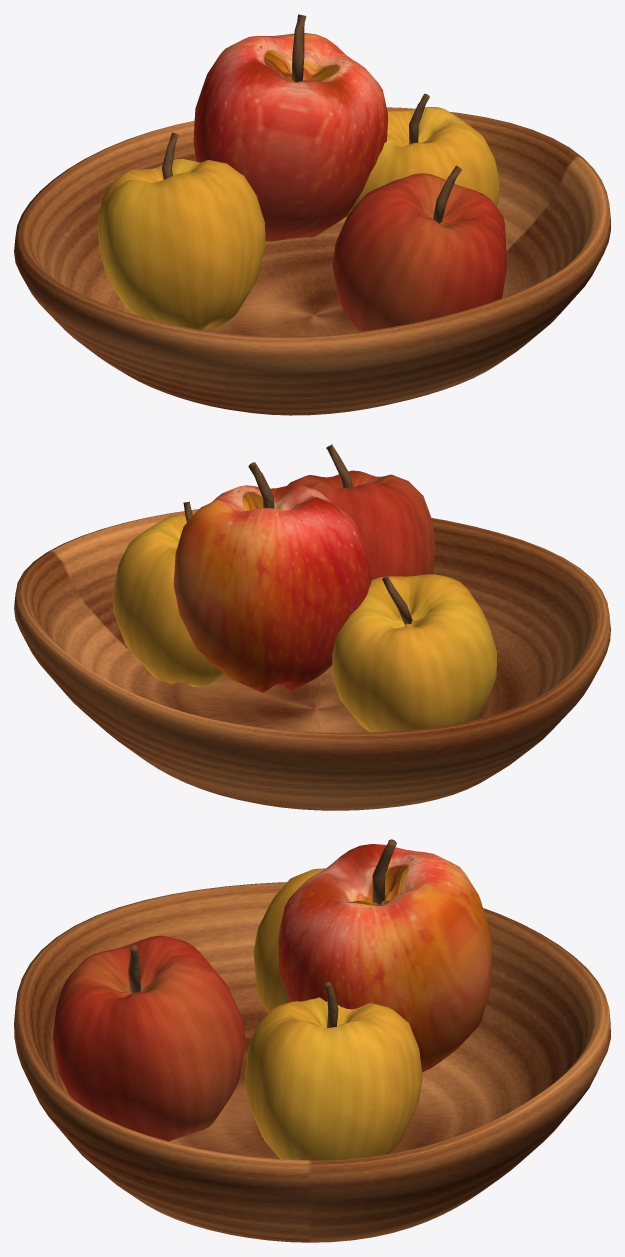
Rendered from fruit-dish.glb.
3 renders of one model, top to bottom at view 1: azimuth 30°, elevation 25°; view 2: azimuth 150°, elevation 25°; view 3: azimuth 270°, elevation 25°, orthographic. The views are drawn at different scales.
Visible parts, largest first — view 1: Turned shallow serving dish, Lobed apple skin.003, Lobed apple skin, Lobed apple skin.001, Lobed apple skin.002, Bending woody stem.003, Bending woody stem.001; view 2: Turned shallow serving dish, Lobed apple skin.003, Lobed apple skin, Lobed apple skin.002, Lobed apple skin.001, Bending woody stem.003; view 3: Turned shallow serving dish, Lobed apple skin.003, Lobed apple skin.001, Lobed apple skin.002, Lobed apple skin, Bending woody stem.003.
Part boxes in pixels (<box>): Turned shallow serving dish: <box>14,107,610,415</box>; Lobed apple skin.003: <box>193,33,387,241</box>; Lobed apple skin: <box>97,158,265,330</box>; Lobed apple skin.001: <box>332,173,506,331</box>; Lobed apple skin.002: <box>345,107,499,218</box>; Bending woody stem.003: <box>291,14,306,82</box>; Bending woody stem.001: <box>432,165,461,223</box>; Turned shallow serving dish: <box>14,509,610,810</box>; Lobed apple skin.003: <box>173,484,371,692</box>; Lobed apple skin: <box>332,574,496,732</box>; Lobed apple skin.002: <box>112,514,224,686</box>; Lobed apple skin.001: <box>287,470,435,579</box>; Bending woody stem.003: <box>248,462,274,508</box>; Turned shallow serving dish: <box>14,882,610,1242</box>; Lobed apple skin.003: <box>278,844,492,1072</box>; Lobed apple skin.001: <box>53,935,245,1141</box>; Lobed apple skin.002: <box>244,997,422,1159</box>; Lobed apple skin: <box>253,868,325,1013</box>; Bending woody stem.003: <box>372,839,396,904</box>.
Size of the model in its own units: 0.4081 by 0.2146 by 0.3593.
Materials: 7 (7 with a texture image).
